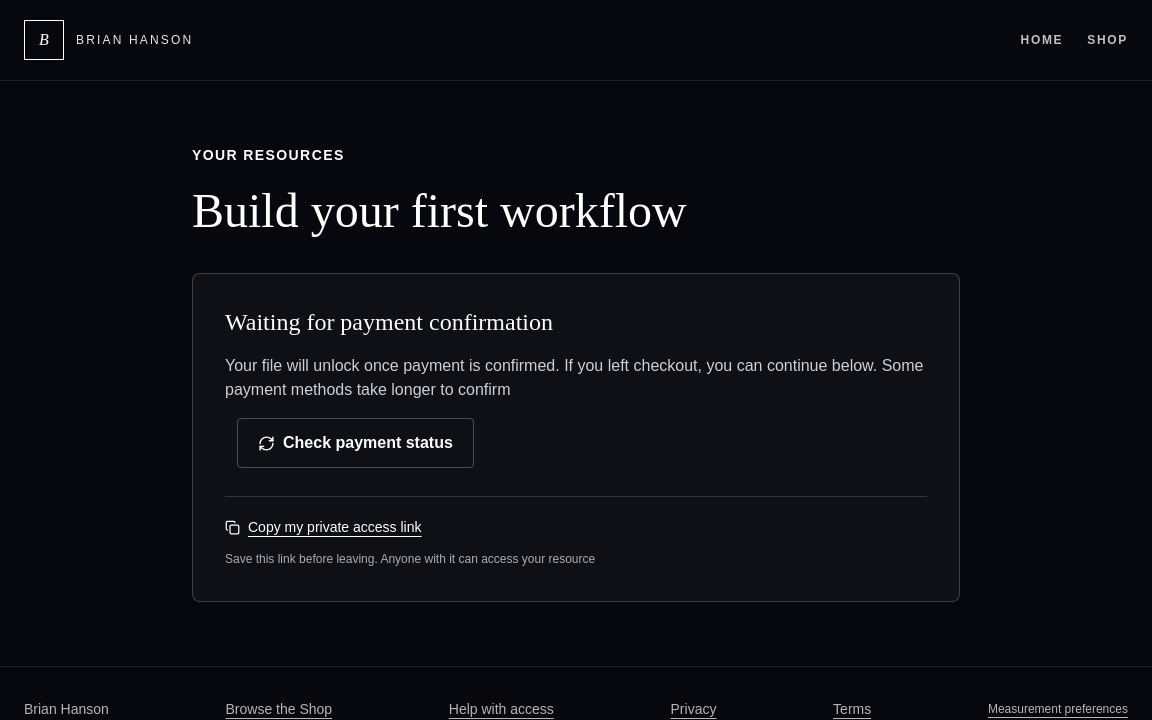
Test: offer visitor journey › keeps newly confirmed access when an older automatic status read arrives late
Click the button "Check payment status". click: (355, 443)
box: [237,418,474,468]
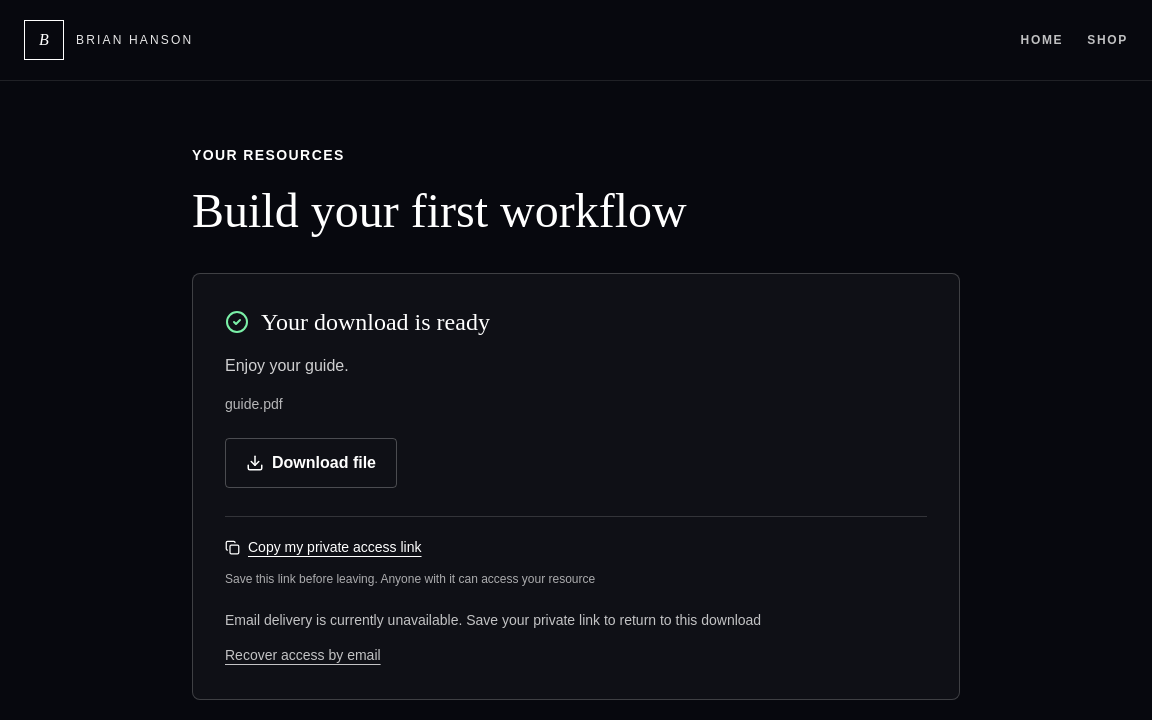
Check: the button "Download file" is shown, box [225,438,397,488]
Check: the heading "Waiting for payment confirmation" is gone
